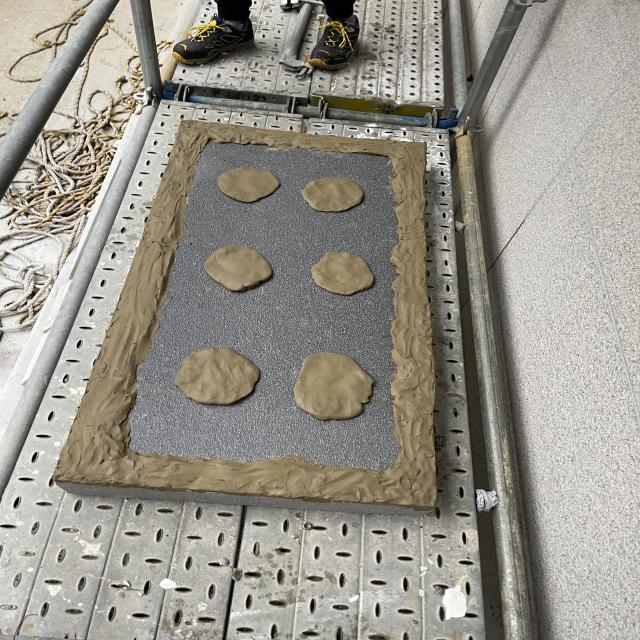dab: (293, 352, 374, 421), (174, 348, 259, 405), (204, 245, 272, 292), (311, 252, 374, 295), (218, 167, 280, 202), (301, 177, 363, 212)
insulation: (52, 120, 437, 517)
